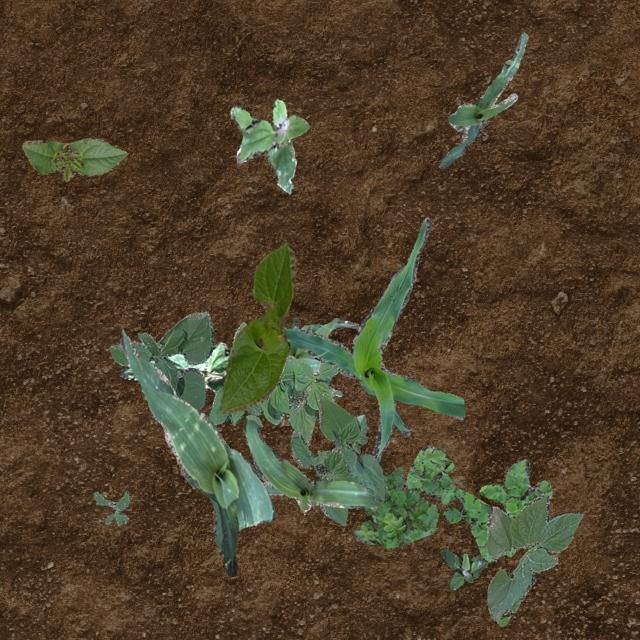crop: (282, 215, 464, 460), (118, 328, 274, 576), (208, 322, 338, 444), (242, 414, 378, 512), (218, 242, 294, 412), (290, 390, 386, 524), (486, 492, 582, 626), (438, 31, 528, 168), (108, 310, 212, 410), (286, 316, 358, 396), (119, 341, 228, 392), (20, 136, 126, 180), (348, 414, 368, 454)
weed: (404, 444, 550, 560), (230, 99, 308, 192), (352, 467, 438, 548), (439, 548, 486, 588), (92, 490, 128, 524)
